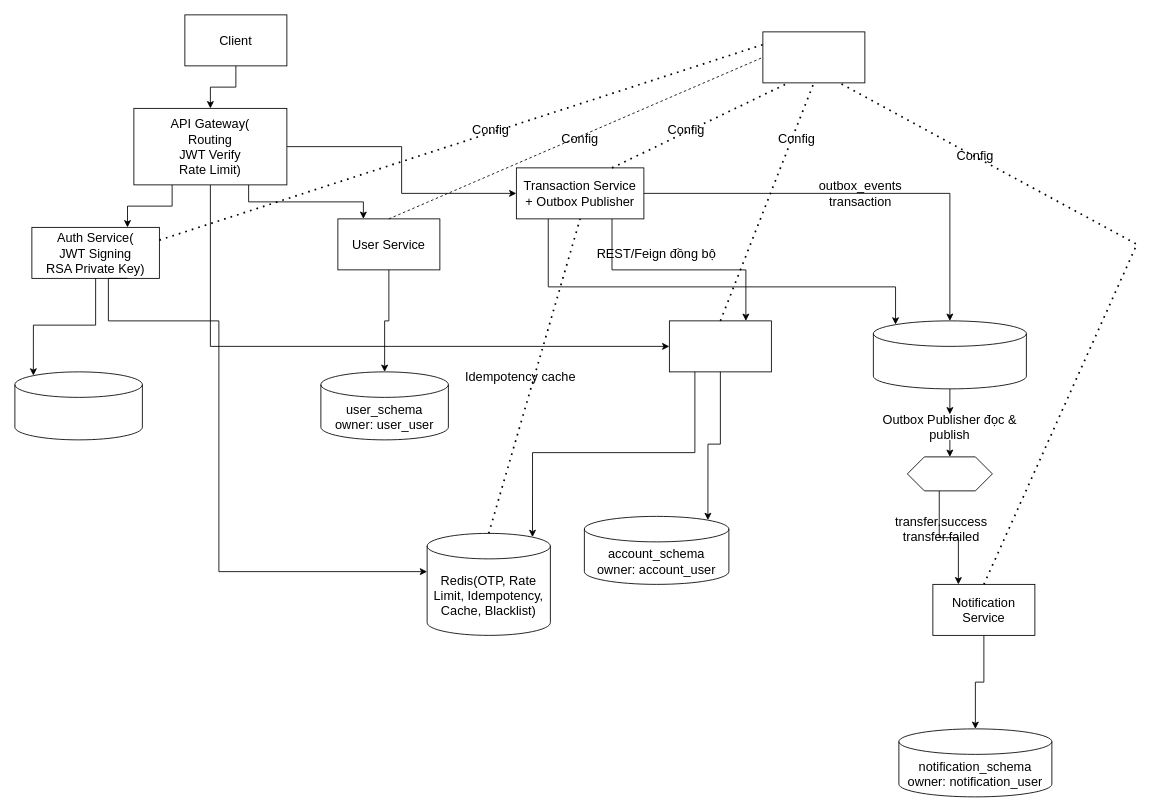
The diagram is 1153 pixels wide and 812 high, and some of its shapes have lost their labels. The shapes that lost their labels are listed below. From the top down, each one's box as (x1, y1, x2, y2) in pixels, then its label:
(762, 31, 865, 83): Config Server
(669, 320, 771, 372): Account Service
(873, 320, 1026, 389): transaction_schema owner: transaction_user
(14, 371, 142, 440): auth_schema owner: auth_user
(907, 456, 992, 491): Kafka
